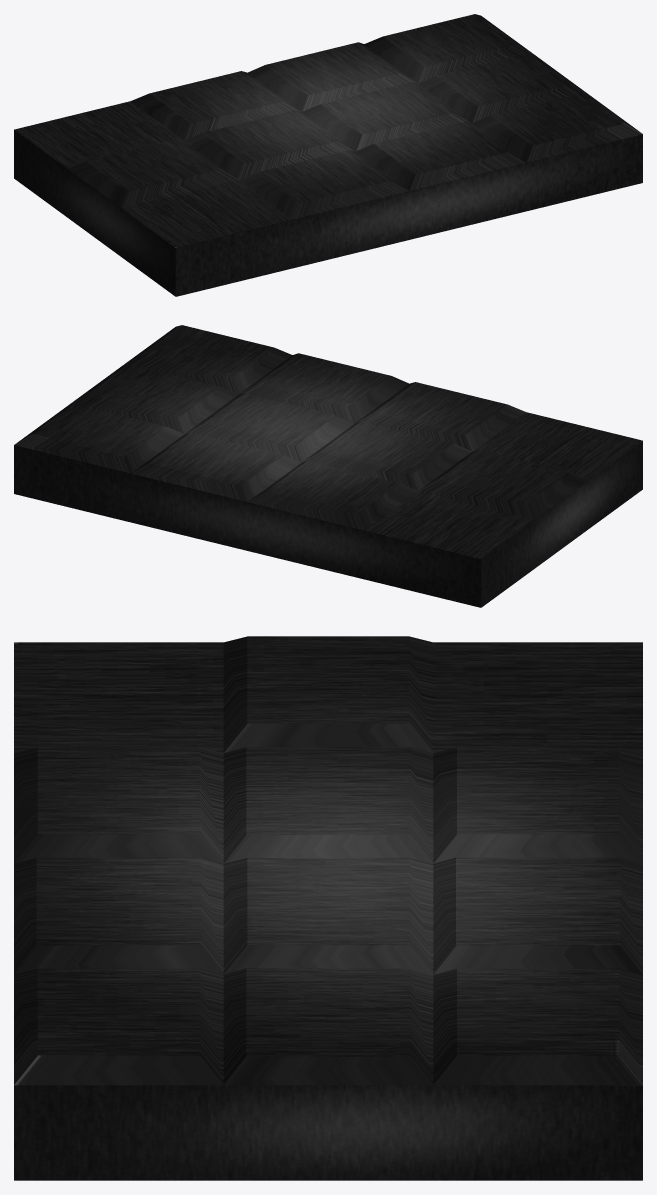
Rendered from keypad.fbx.
3 renders of one model, top to bottom at view 1: azimuth 30°, elevation 25°; view 2: azimuth 150°, elevation 25°; view 3: azimuth 270°, elevation 25°, orthographic. The views are drawn at different scales.
Visible parts, largest first — view 1: Box012; view 2: Box012; view 3: Box012.
Part boxes in pixels (box(x1,y1,x2,y2)): Box012: box(14, 14, 642, 296); Box012: box(14, 325, 642, 607); Box012: box(14, 636, 642, 1180).
Size of the model in its own units: 50 by 5.93 by 30.
